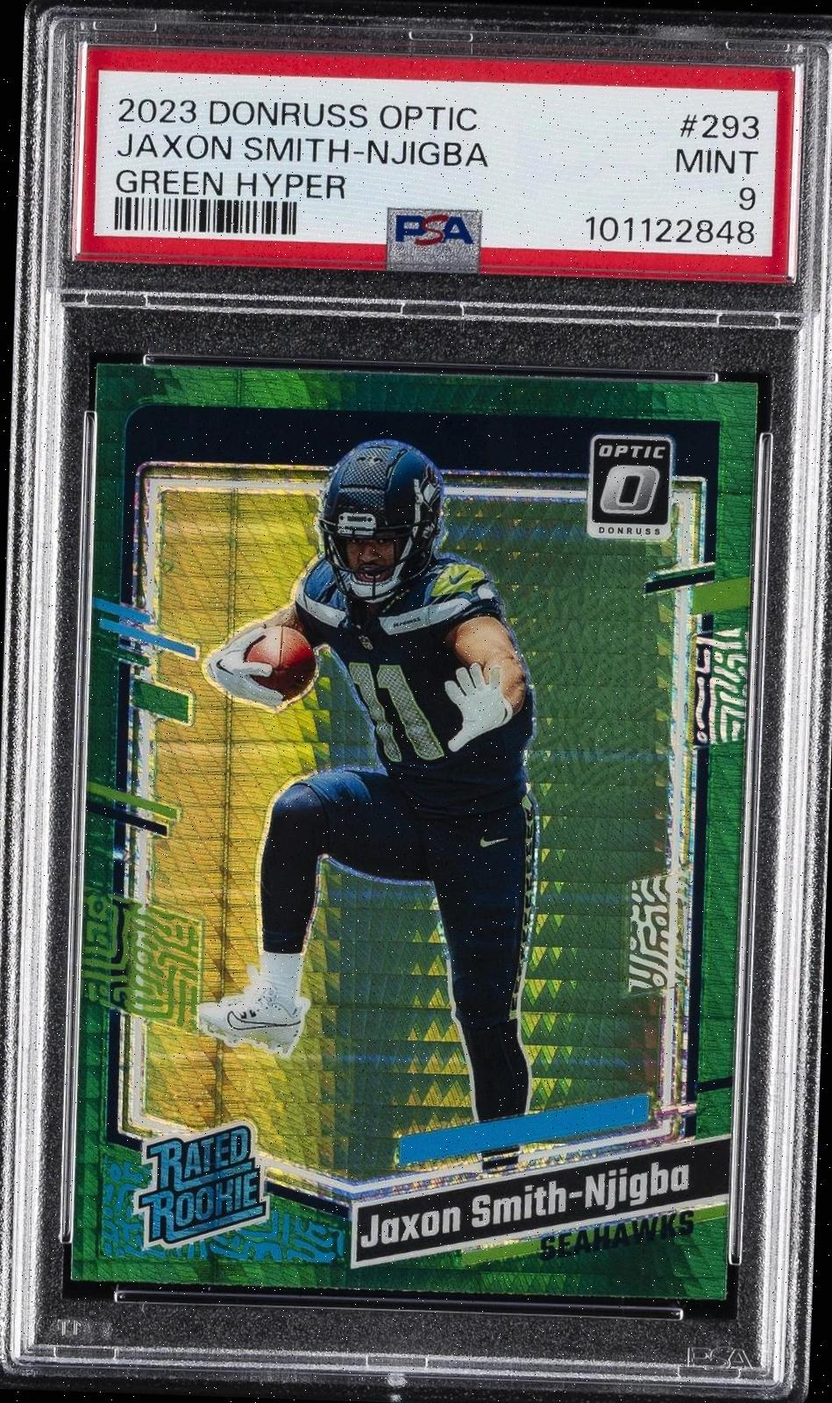card-2UtV: (69, 362, 759, 1302)
